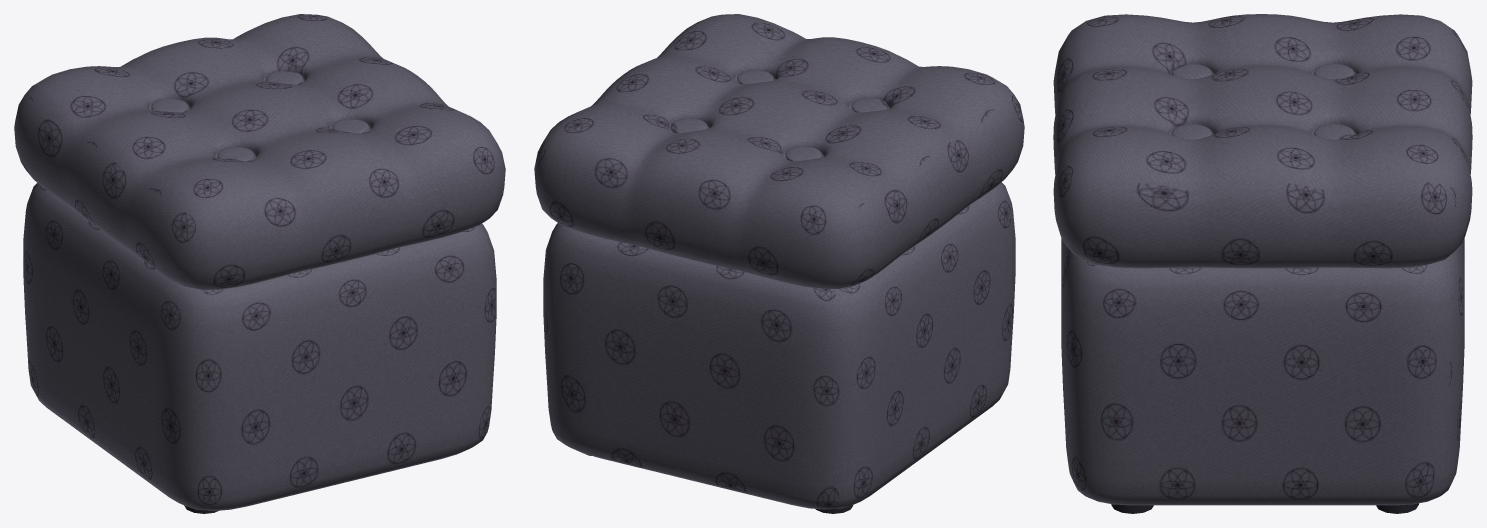
3 views of the same model, side by side, from view 1: azimuth 30°, elevation 25°; view 2: azimuth 150°, elevation 25°; view 3: azimuth 270°, elevation 25° (orthographic). The views are drawn at different scales.
Parts seen in each view (by area): view 1: polySurface1; view 2: polySurface1; view 3: polySurface1.
Boxes of the visible parts, x1,y1,x2,y2 form: polySurface1: (14,14,505,513); polySurface1: (534,14,1024,513); polySurface1: (1053,14,1472,513).
Size of the model in its own units: 1.07 by 1.02 by 1.07.
Materials: 2 (2 with a texture image).
